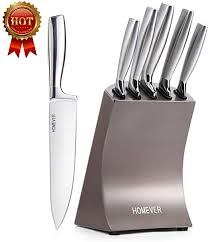kuchillu: (41, 9, 80, 237)
